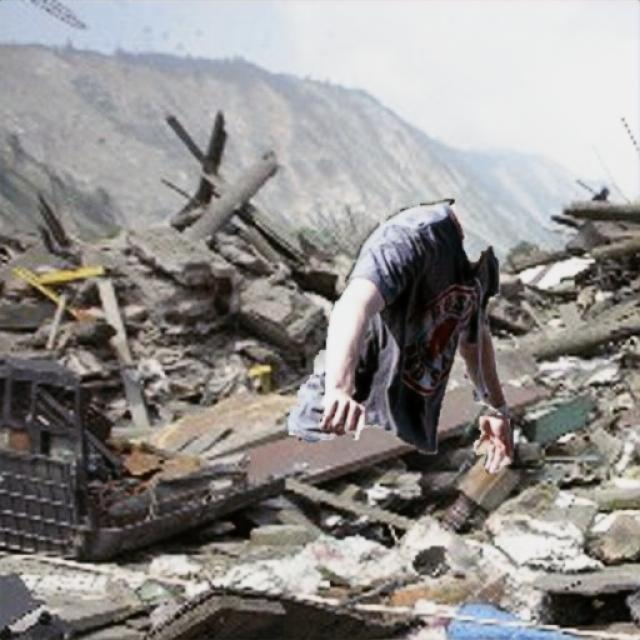Person in Rubble: (286, 198, 512, 472)
